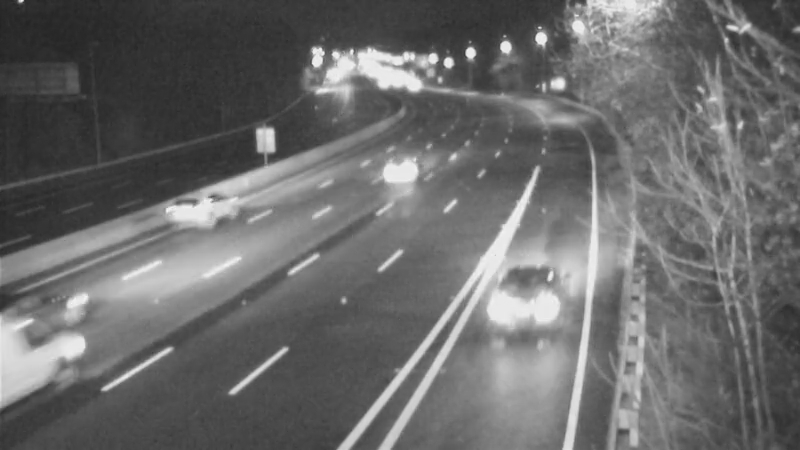vehicle: (1, 310, 95, 420), (366, 123, 446, 203), (146, 169, 226, 249), (477, 259, 557, 339)
